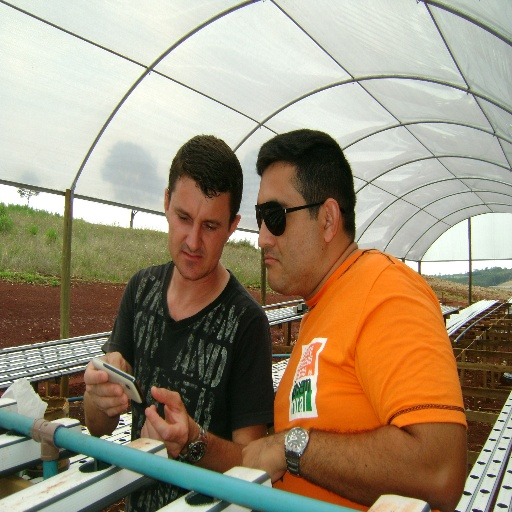hand: (143, 393, 196, 459), (82, 349, 128, 418), (242, 433, 289, 484)
